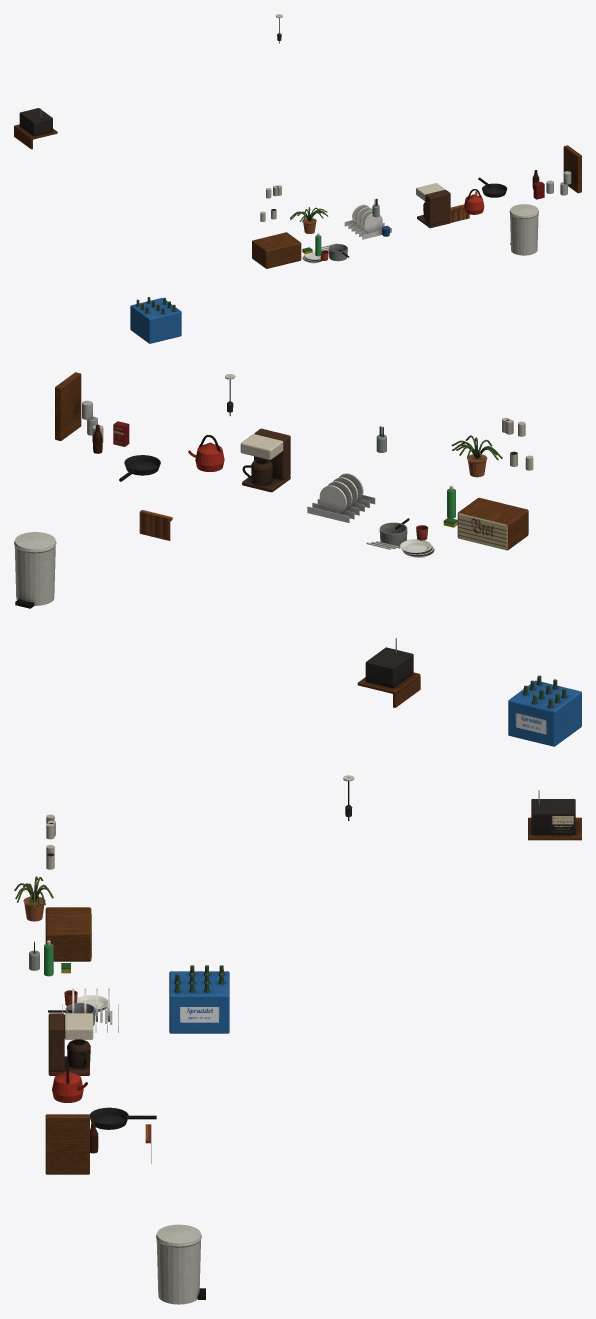
File: kue_kram.glb
3 views of the same model, one above another, from view 1: azimuth 30°, elevation 25°; view 2: azimuth 150°, elevation 25°; view 3: azimuth 270°, elevation 25° (orthographic). The views are drawn at different scales.
Parts seen in each view (by area): view 1: kue_kram; view 2: kue_kram; view 3: kue_kram.
Boxes of the visible parts, x1,y1,x2,y2 form: kue_kram: (14,14,581,343); kue_kram: (14,372,581,746); kue_kram: (14,775,581,1304).
Bounding box in the file's own units: 4.47 × 2.6 × 3.58.
1 material, 1 textured.
